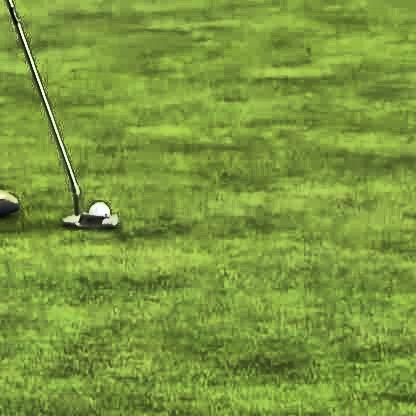golfball: (87, 199, 111, 218)
